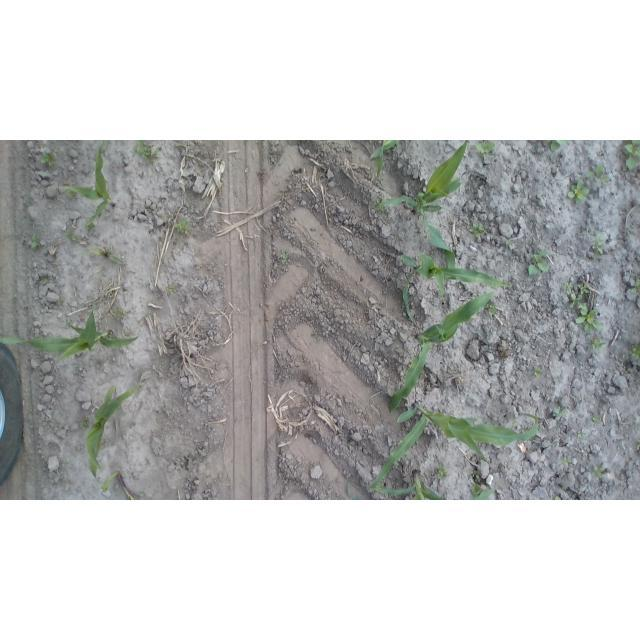Maize: (366, 402, 540, 490), (386, 292, 495, 413), (381, 141, 468, 268), (397, 252, 513, 327), (0, 309, 140, 363), (84, 371, 141, 479), (58, 141, 118, 232), (378, 470, 444, 500), (100, 472, 144, 501), (80, 244, 127, 271), (369, 140, 398, 181), (468, 482, 498, 500), (346, 476, 364, 501)
Weeds: (575, 303, 606, 333), (525, 247, 553, 278), (561, 280, 589, 306), (568, 178, 591, 207), (586, 162, 611, 184), (135, 141, 157, 164), (624, 141, 640, 172), (474, 141, 495, 160), (590, 232, 606, 255), (173, 217, 192, 236), (65, 226, 82, 247), (372, 194, 388, 214), (585, 336, 607, 349), (27, 232, 41, 252), (469, 222, 486, 238), (41, 149, 56, 167), (77, 413, 91, 432), (433, 464, 449, 480), (590, 462, 606, 478), (551, 406, 570, 419), (628, 340, 640, 360), (549, 140, 568, 152), (111, 306, 125, 321), (630, 277, 640, 295), (486, 301, 498, 316), (280, 250, 290, 266), (165, 283, 177, 296), (35, 273, 49, 282), (577, 427, 587, 439), (592, 412, 602, 424), (535, 362, 542, 379), (563, 455, 572, 467), (67, 189, 76, 199), (507, 239, 515, 250), (55, 298, 66, 306), (469, 470, 481, 477), (588, 250, 596, 260), (636, 439, 640, 452), (109, 290, 115, 298), (148, 207, 153, 213), (589, 230, 594, 235)
